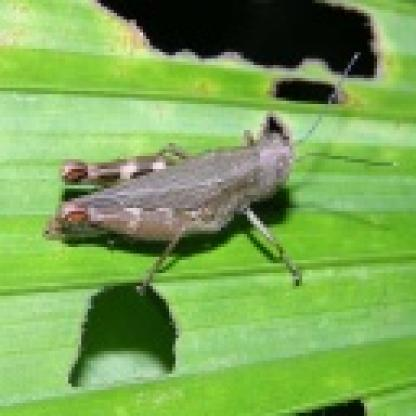grasshopper: (49, 82, 333, 286)
